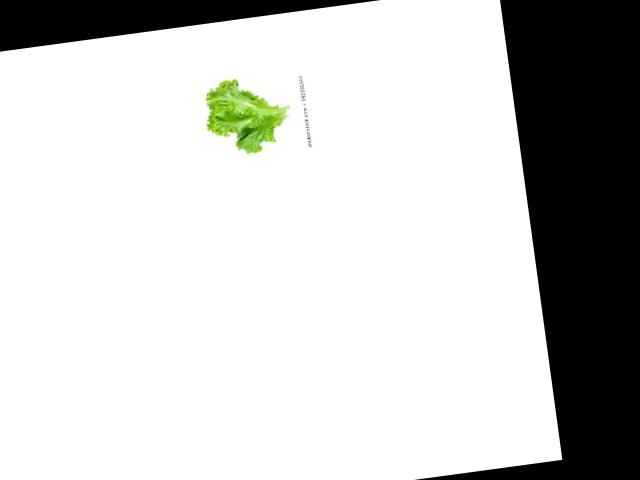lettuce: (199, 71, 301, 161)
